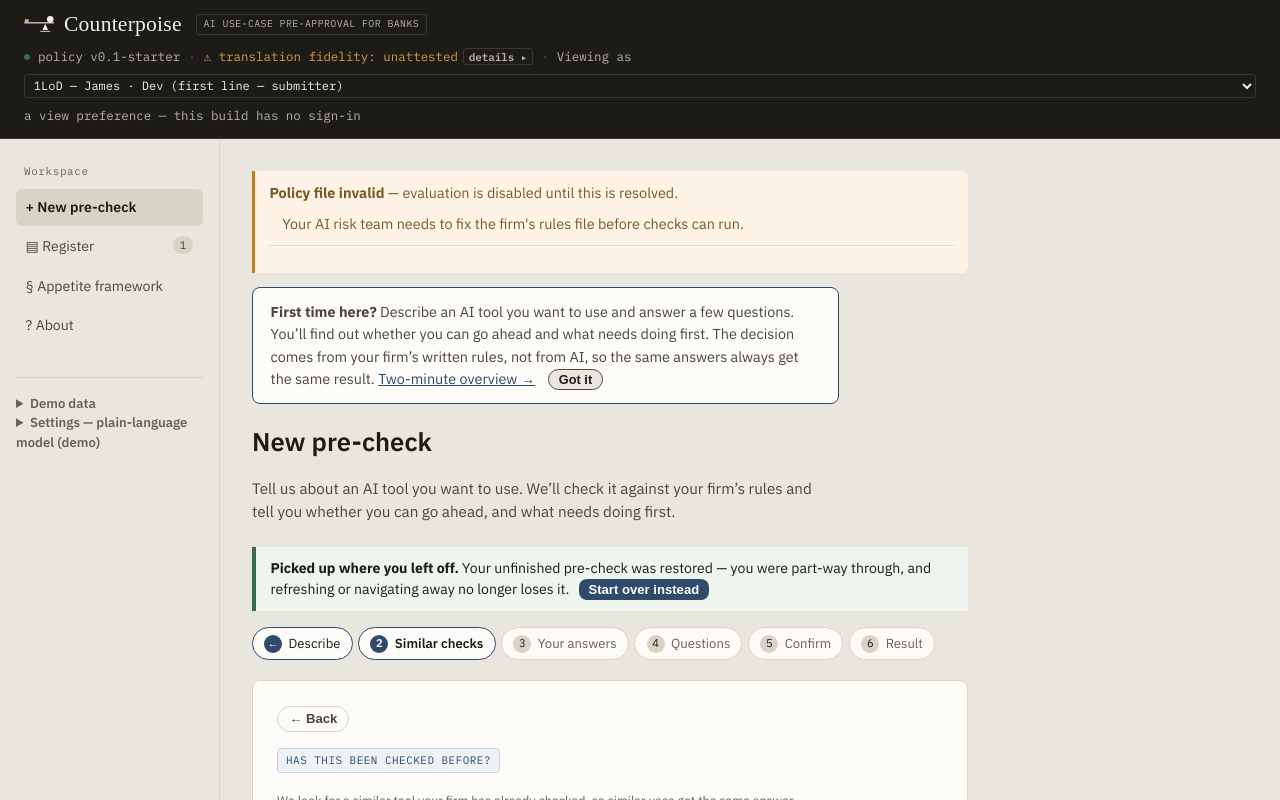
Test: CR6-02: "Start over" abandons earlier in-flight work instead of leaving it running › TC-CR6-02b: an abandoned duplicate check's match never appears on the new case
Click the button "Start over instead" at (644, 590), box top-left (579, 579), bottom-right (709, 600)
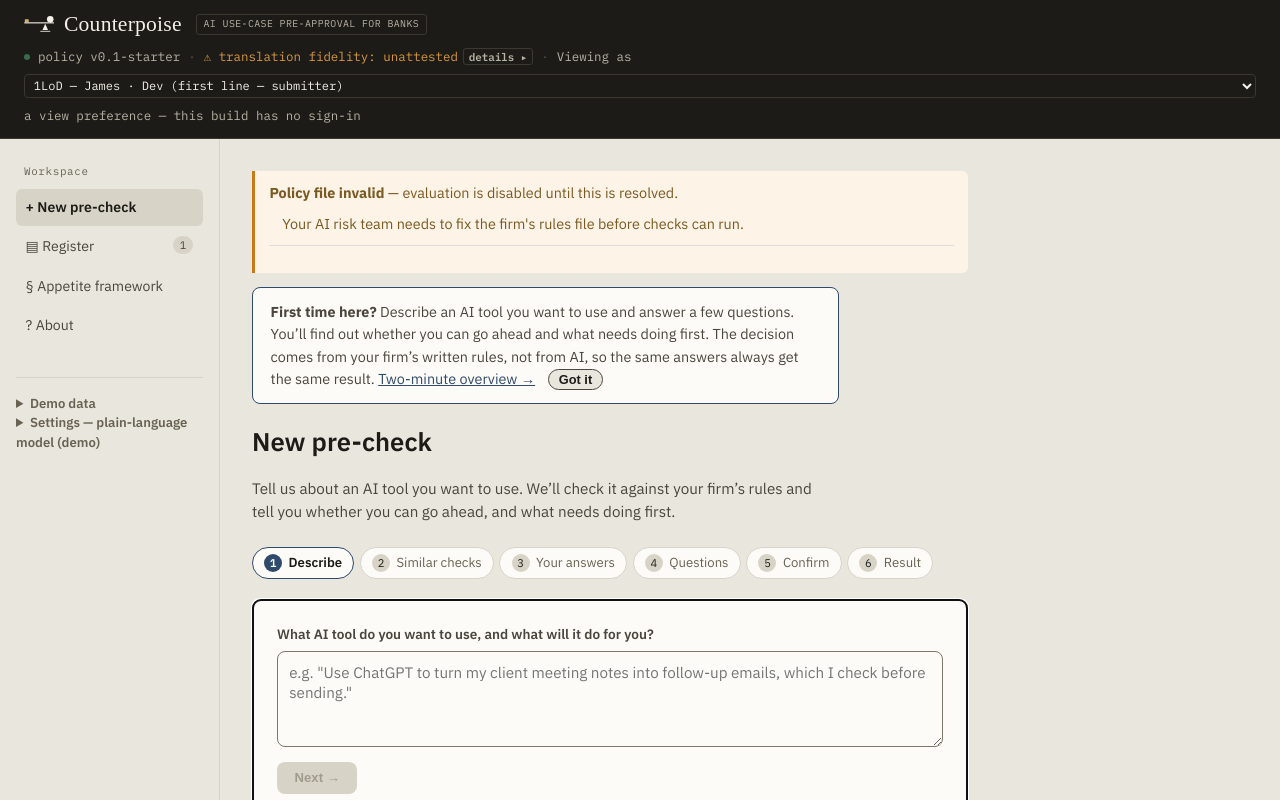
Check: the text box labelled "What AI tool do you want to use" is shown
Click the text box labelled "What AI tool do you want to use" at (610, 699), box top-left (277, 651), bottom-right (943, 747)
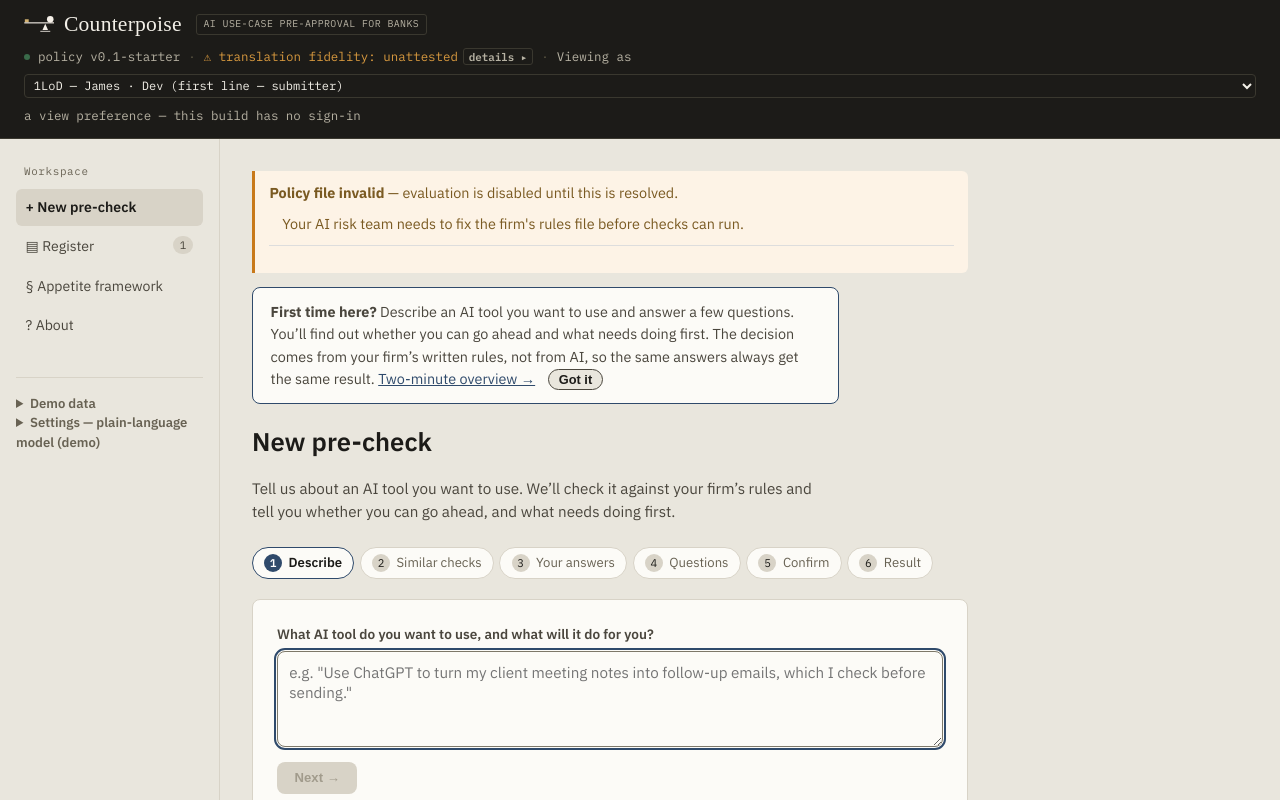
Type keys "A chatbot that helps interns book conference rooms"
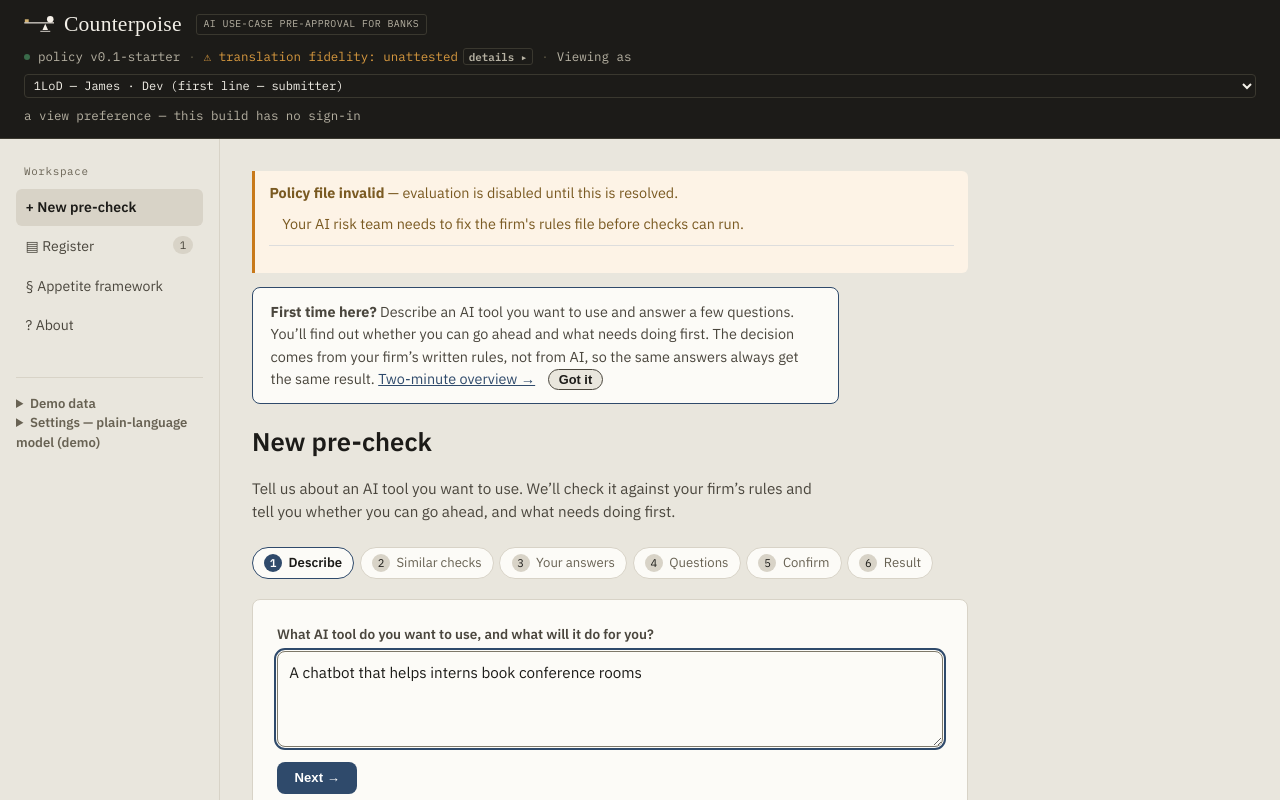
Click the button "Next →" at (317, 778), box top-left (277, 762), bottom-right (357, 794)
(page scrolled)
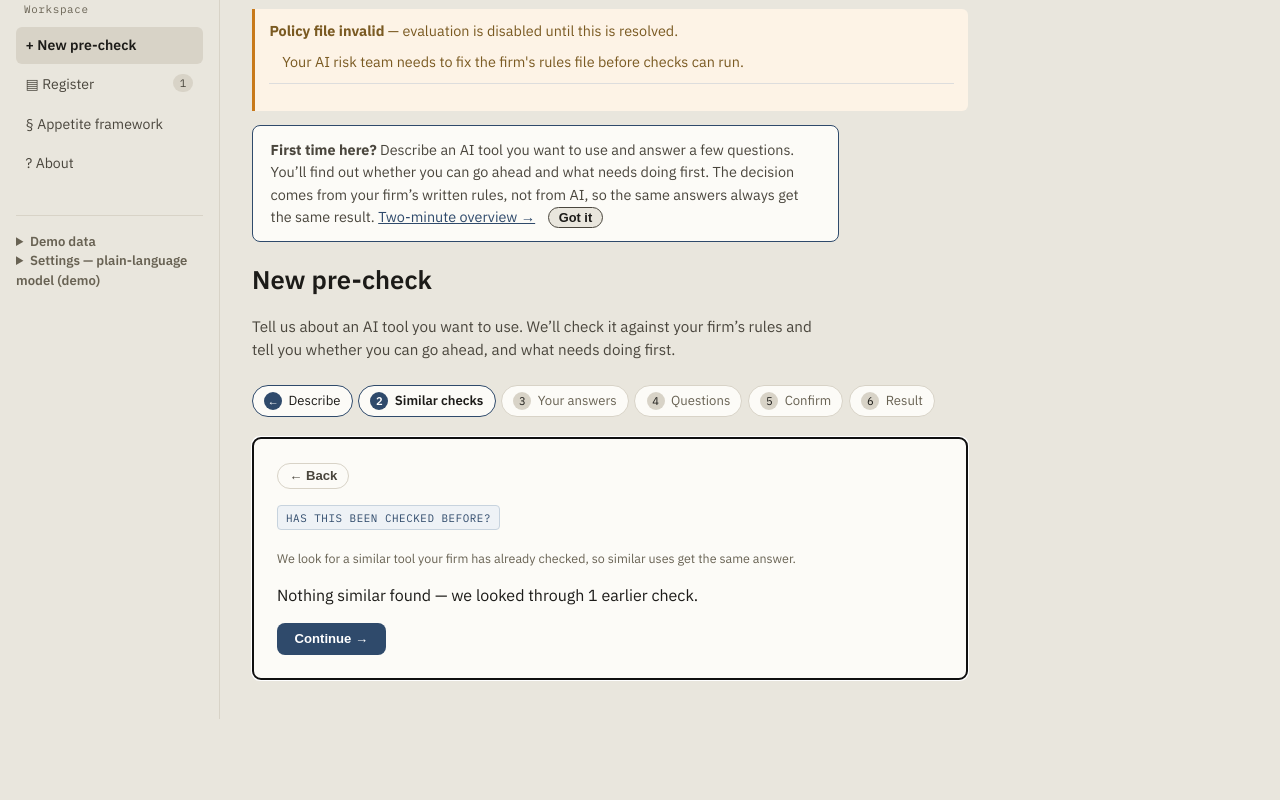
Check: the button "Continue →" is shown, box top-left (277, 623), bottom-right (386, 655)
